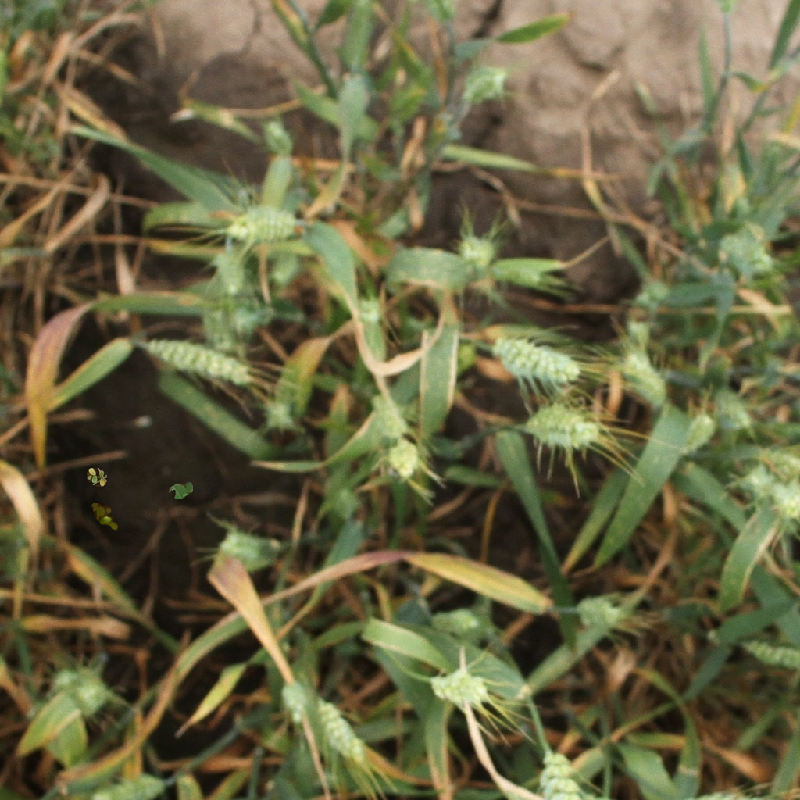spikelet: (144, 337, 253, 387), (491, 335, 581, 384), (525, 402, 601, 451), (313, 698, 366, 764), (717, 222, 776, 280), (224, 202, 298, 245), (535, 751, 597, 799), (52, 665, 110, 716), (619, 349, 668, 406), (218, 527, 281, 571), (431, 666, 488, 709), (459, 61, 510, 106), (222, 291, 273, 335), (740, 634, 799, 672), (382, 437, 427, 482), (712, 388, 755, 434), (86, 774, 165, 799), (574, 593, 624, 632), (430, 605, 485, 640), (369, 394, 410, 440), (677, 410, 717, 456), (456, 232, 497, 273), (757, 445, 800, 483), (282, 673, 310, 726), (633, 276, 672, 313), (259, 117, 294, 157), (260, 395, 297, 432), (768, 480, 799, 524), (354, 294, 383, 326)
weed: (91, 503, 118, 531), (169, 482, 193, 499), (87, 468, 107, 487)
